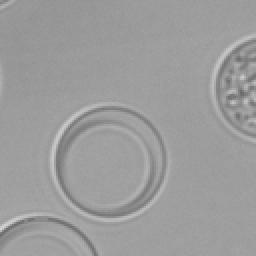picoshell: (50, 102, 170, 222), (210, 36, 256, 143), (0, 212, 96, 256)
